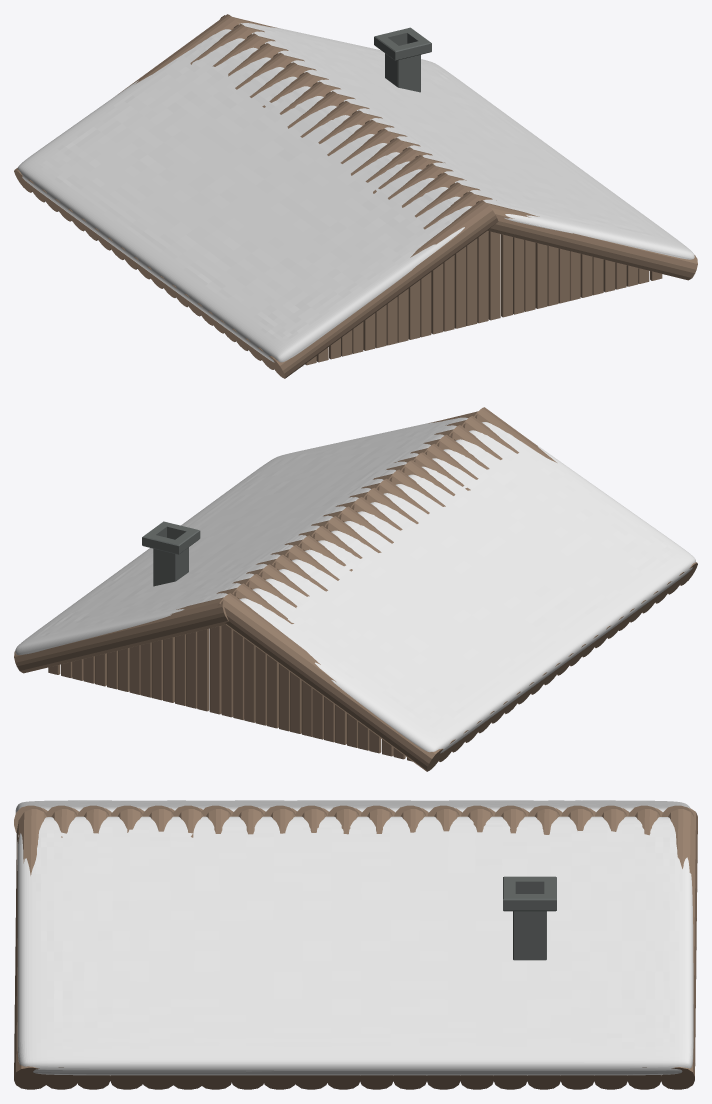
The model's file is hut_roof.fbx.
3 views of the same model, one above another, from view 1: azimuth 30°, elevation 25°; view 2: azimuth 150°, elevation 25°; view 3: azimuth 270°, elevation 25° (orthographic). The views are drawn at different scales.
Visible parts, largest first — view 1: Cube.002, Cube.096, Cube; view 2: Cube.002, Cube.096, Cube; view 3: Cube, Cube.096, Cube.002.
Boxes of the visible parts, box(x1,y1,x2,y2) form: Cube.002: box(17, 29, 471, 362); Cube.096: box(14, 14, 697, 378); Cube: box(239, 23, 694, 259); Cube.002: box(239, 422, 695, 753); Cube.096: box(14, 407, 697, 771); Cube: box(15, 417, 467, 655); Cube: box(17, 816, 693, 1075); Cube.096: box(14, 805, 697, 1089); Cube.002: box(15, 800, 690, 812).
Size of the model in its own units: 3631 by 1035 by 4002.
